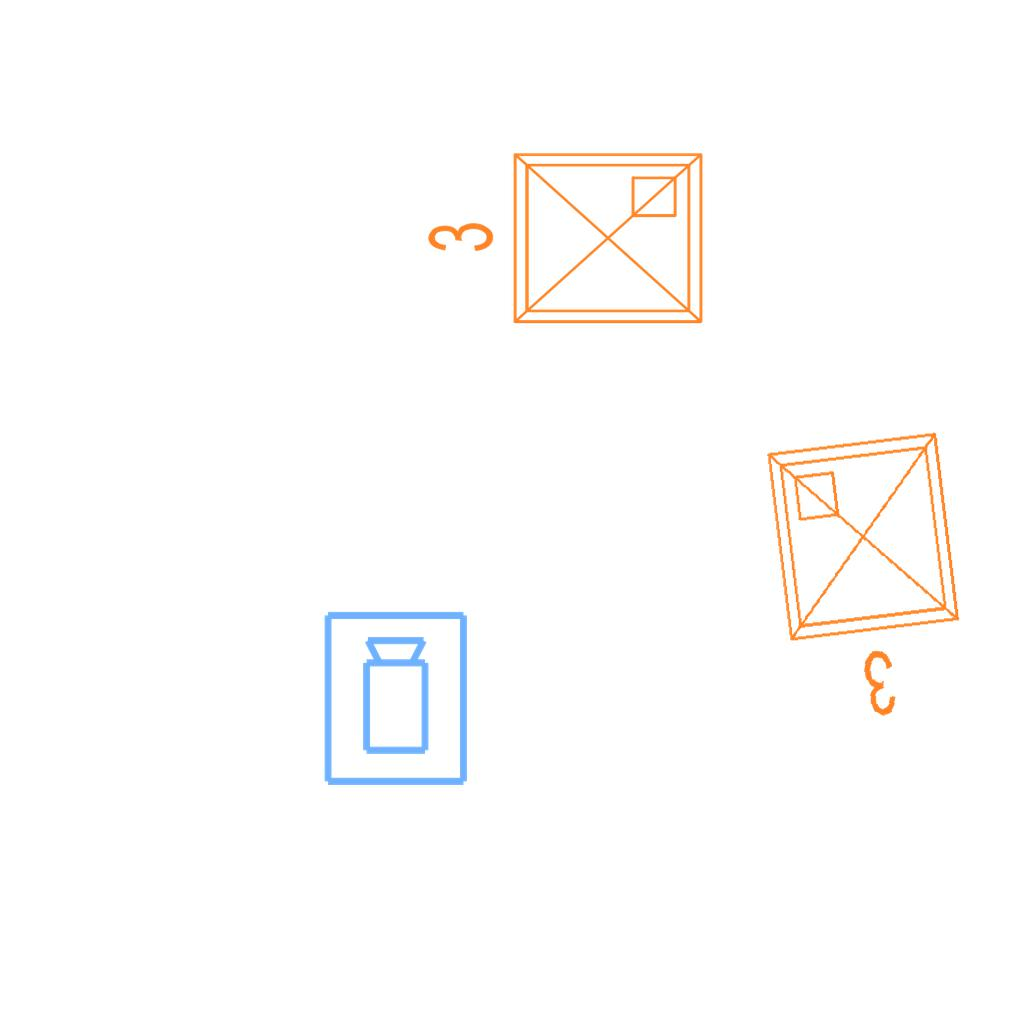Einbaudownlights_LED_Konferenzraeume: (750, 415, 994, 739), (417, 138, 717, 346)
KFO_Kamera_mit_Festobjektiv: (320, 608, 474, 790)
